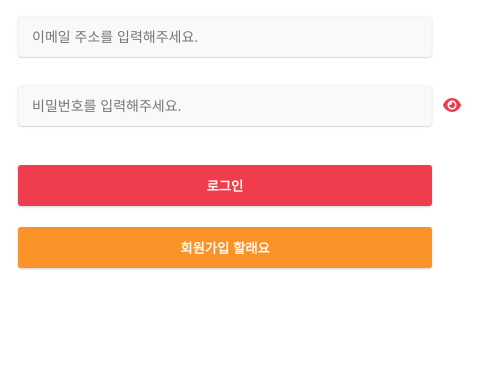
Test: 로그인 & 라우팅 테스트 › 잘못된 로그인 테스트 - 빈칸 입력
The image size is (478, 365).
Click the button "로그인": (225, 186) x1=18 y1=165 x2=432 y2=206
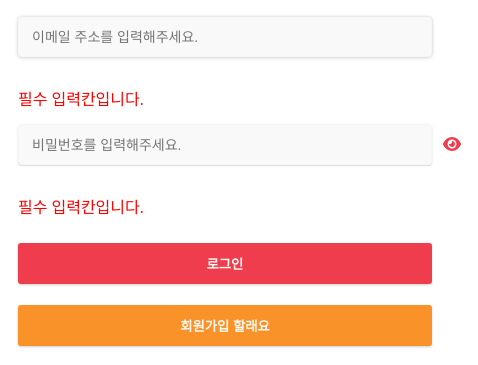
Expected: the text "필수 입력칸입니다." is shown 2 times, x1=18 y1=91 x2=144 y2=108; x1=18 y1=199 x2=144 y2=216
